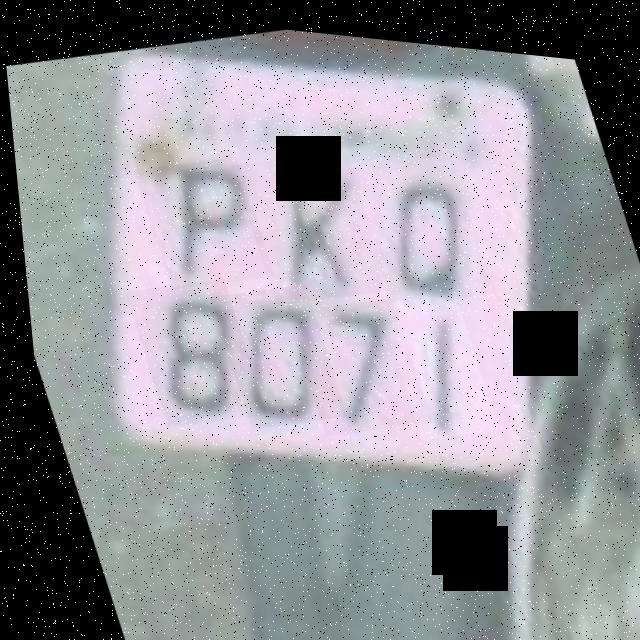0: (202, 270, 341, 432)
1: (371, 278, 492, 437)
7: (278, 281, 426, 438)
8: (117, 265, 261, 432)
K: (226, 133, 387, 308)
O: (346, 135, 492, 306)
P: (129, 143, 271, 294)
